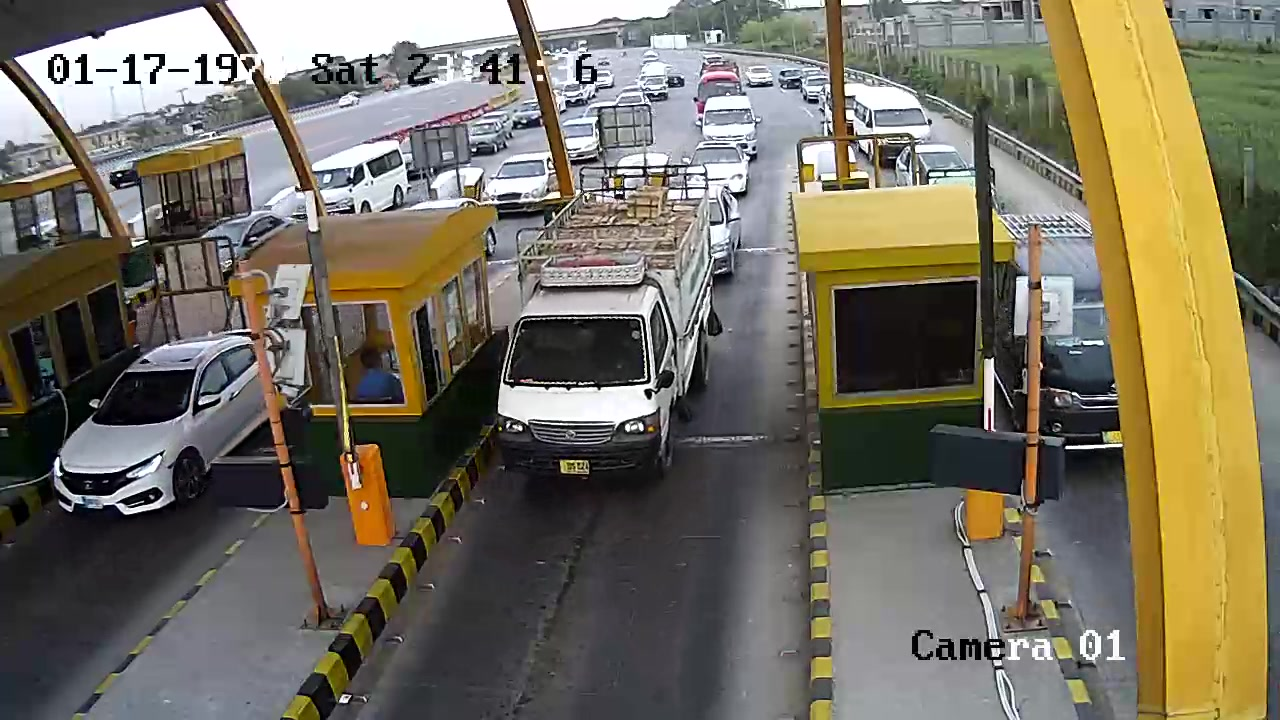F2: (488, 154, 723, 501)
